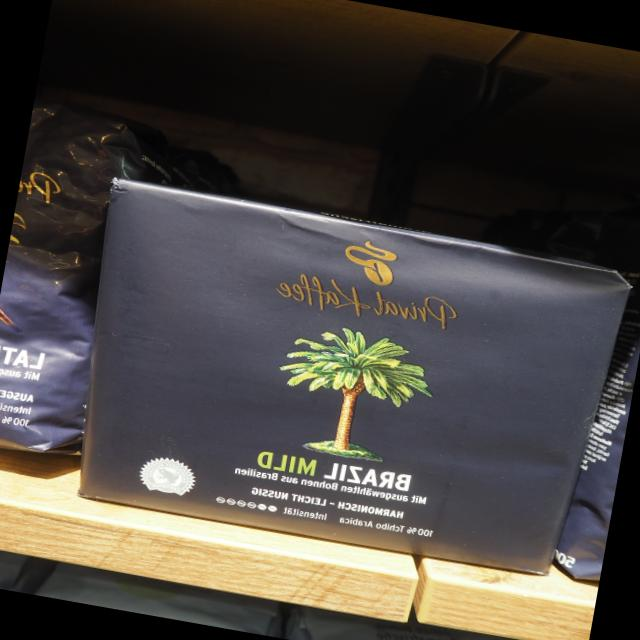BM Gemahlen: (72, 172, 638, 577)
